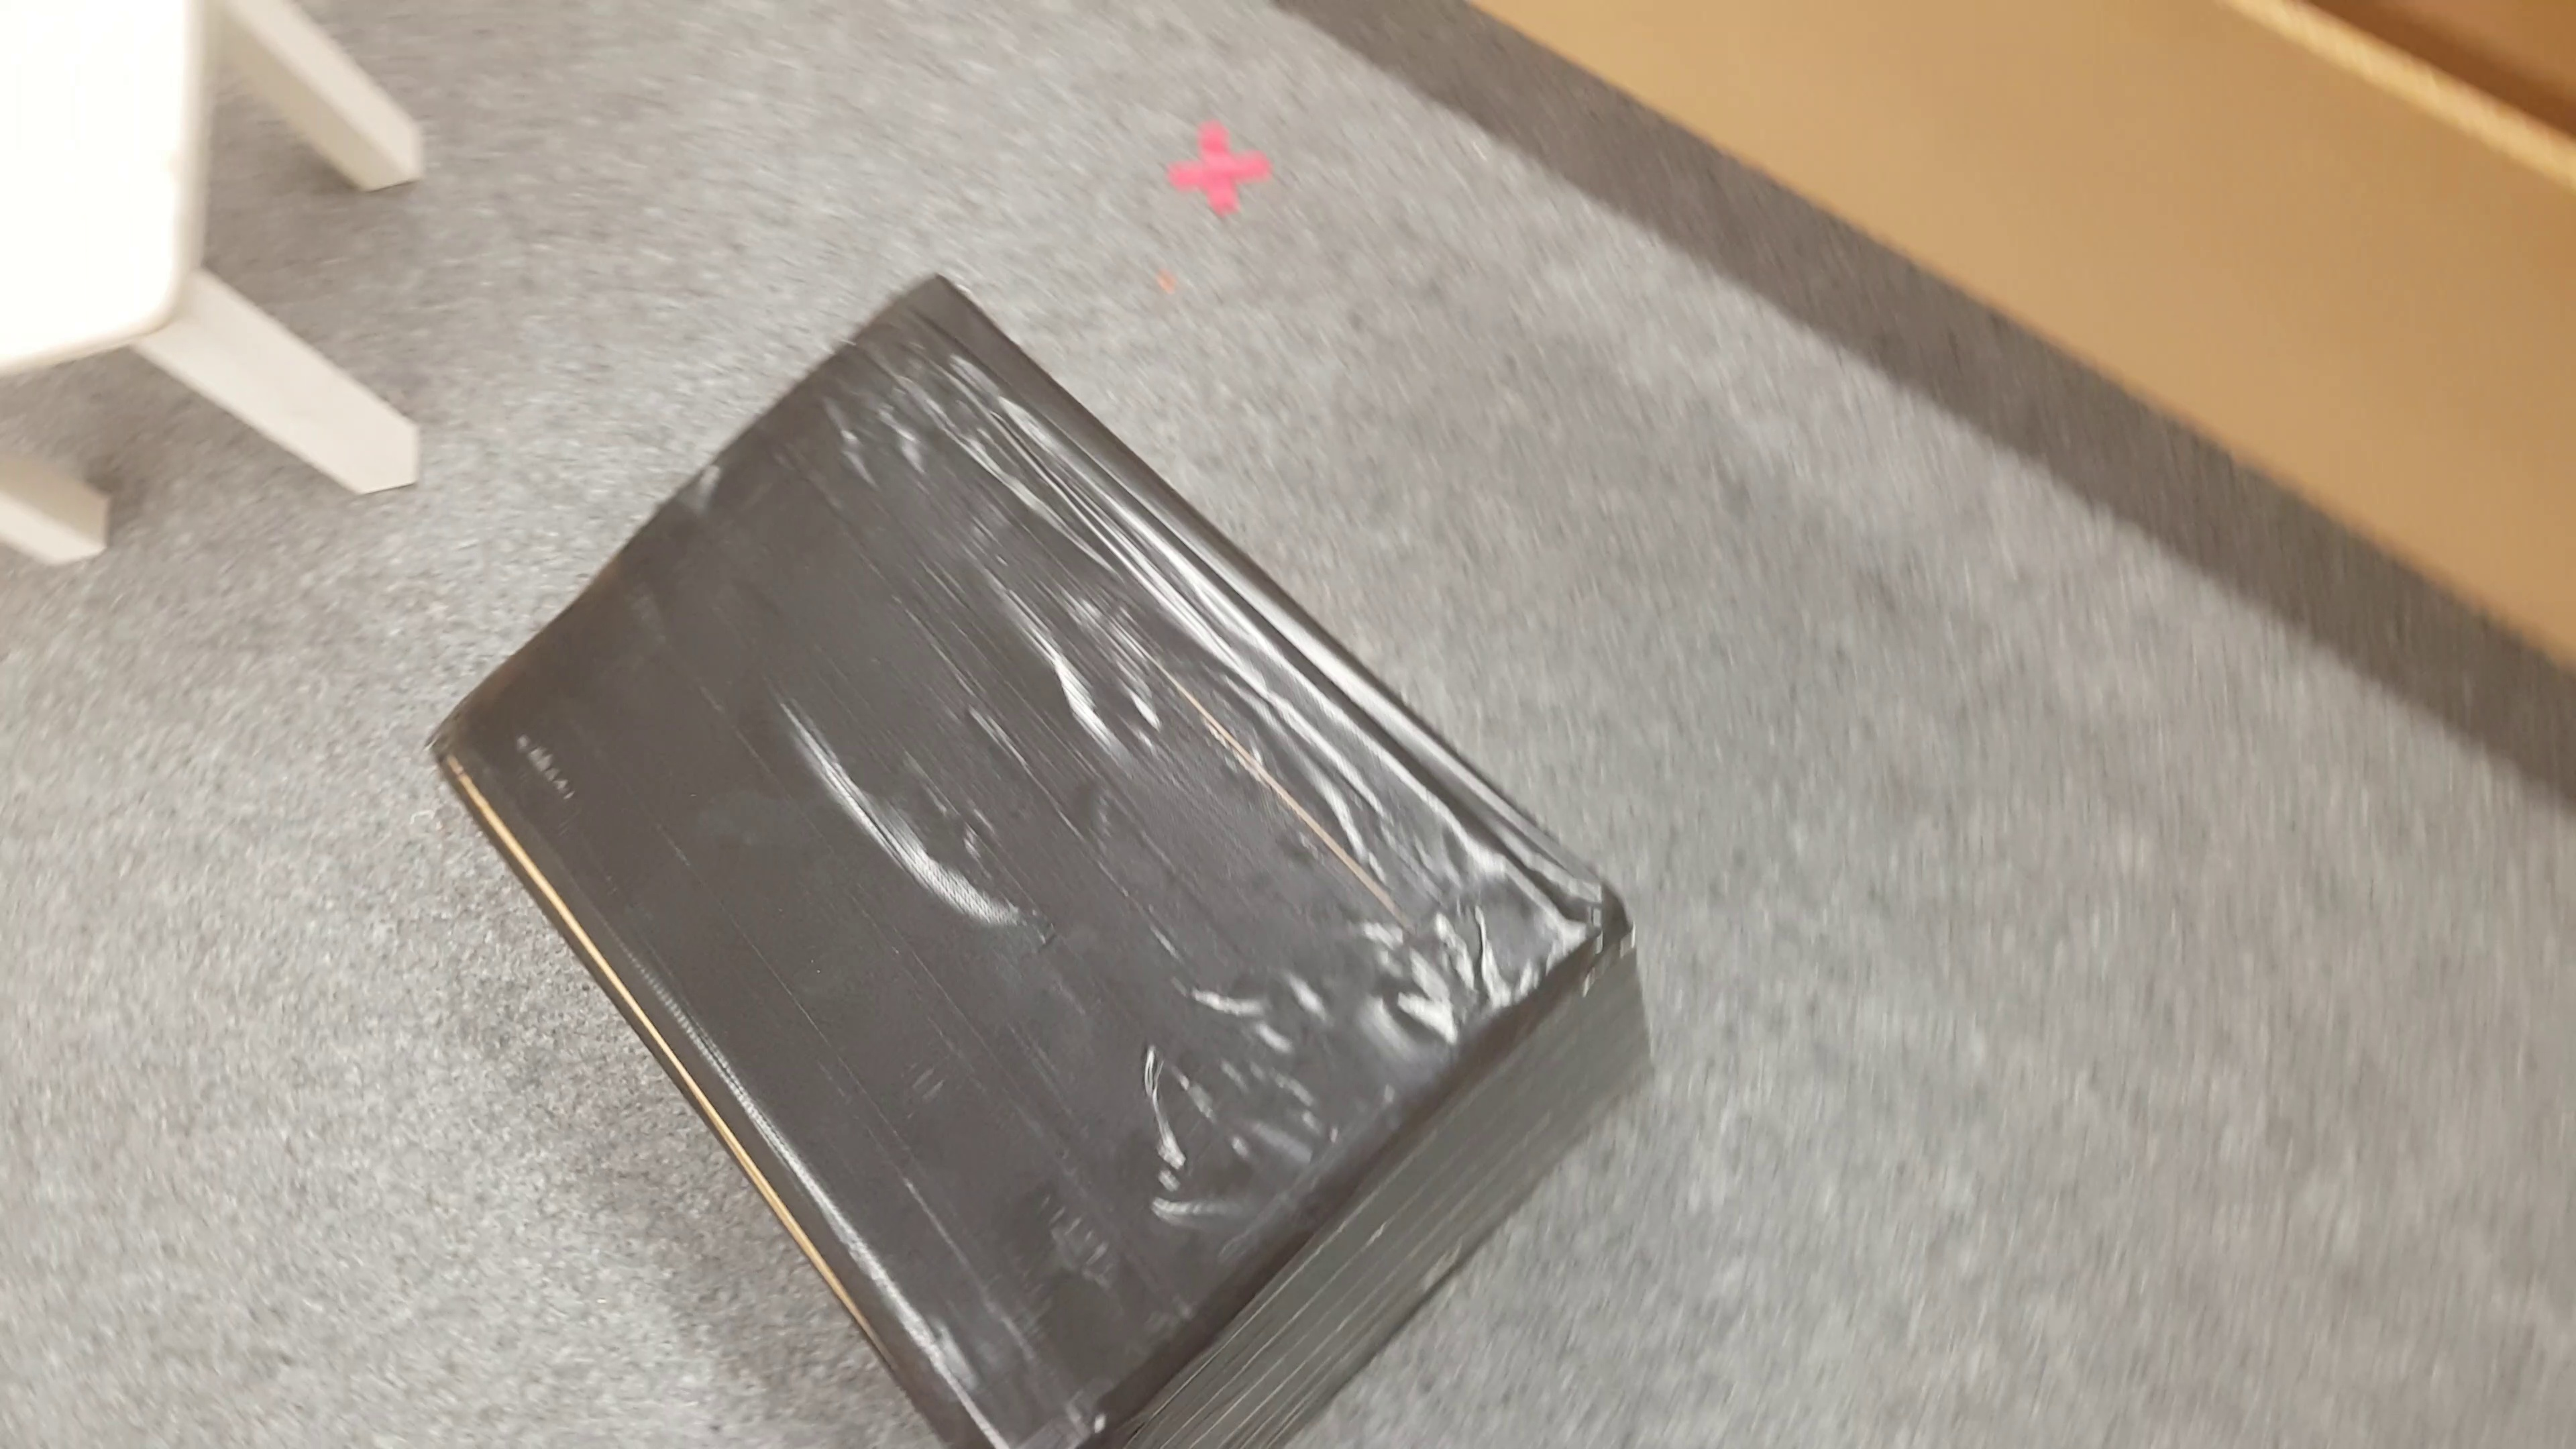push: (423, 272, 1660, 1449)
